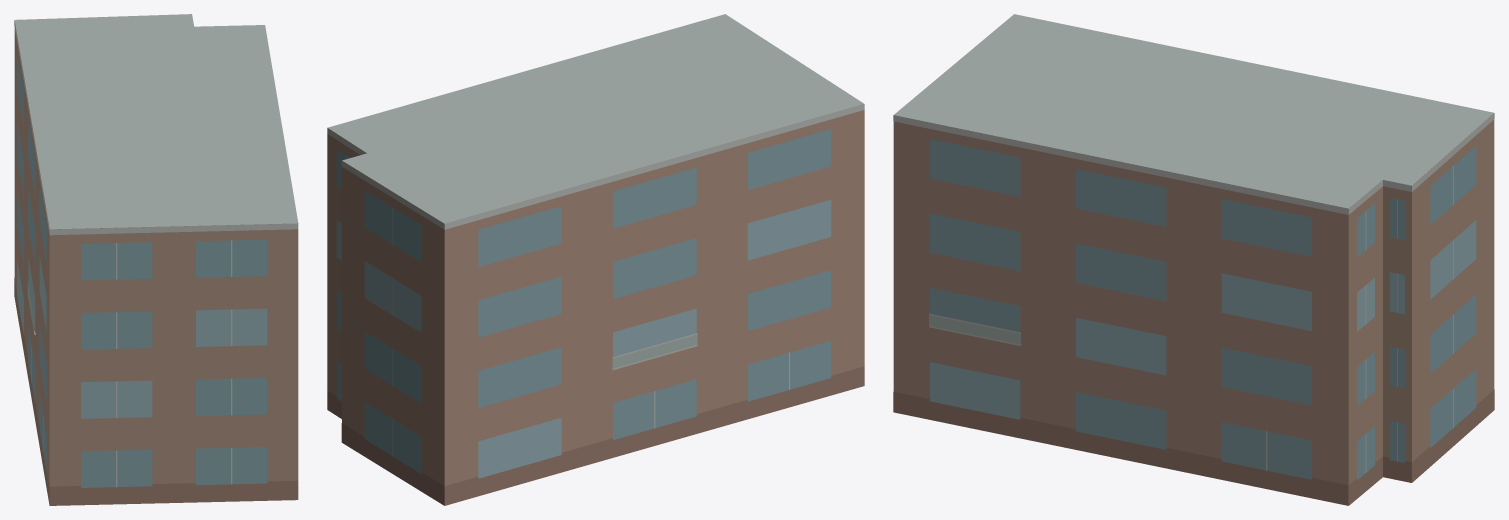
Rendered from survey-upis-32945868.glb.
3 views of the same model, side by side, from view 1: azimuth 30°, elevation 25°; view 2: azimuth 150°, elevation 25°; view 3: azimuth 270°, elevation 25° (orthographic). The views are drawn at different scales.
Visible parts, largest first — view 1: survey-upis-32945868.tmp; view 2: survey-upis-32945868.tmp; view 3: survey-upis-32945868.tmp.
Part boxes in pixels (<box>): survey-upis-32945868.tmp: <box>14,14,298,505</box>; survey-upis-32945868.tmp: <box>327,14,864,505</box>; survey-upis-32945868.tmp: <box>893,14,1494,505</box>.
Size of the model in its own units: 16.09 by 11.45 by 20.99.
